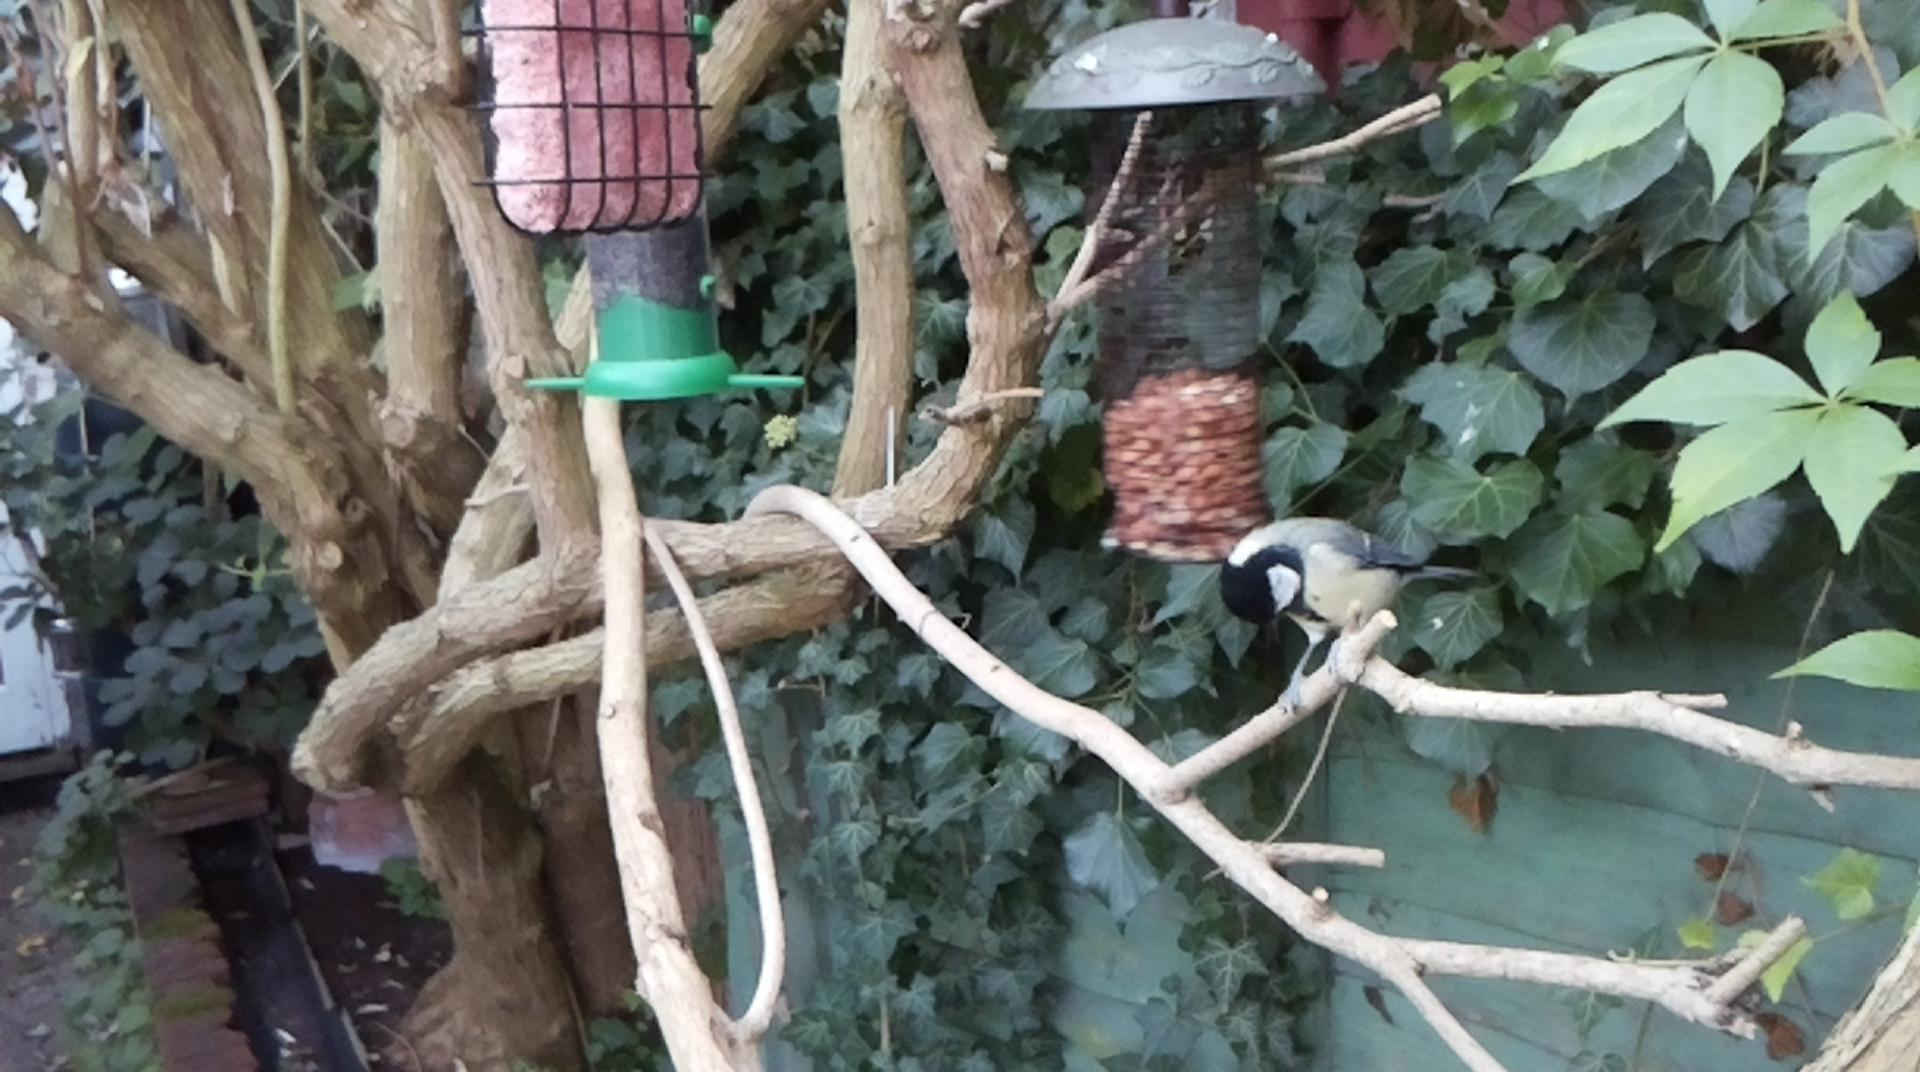great tit: (1218, 516, 1486, 719)
